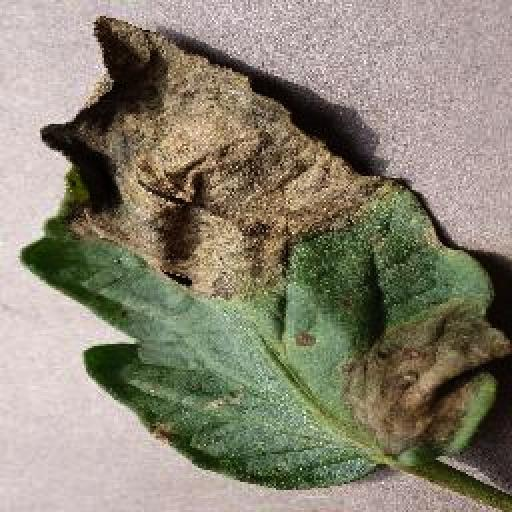disease_tomato: (20, 12, 512, 490)
